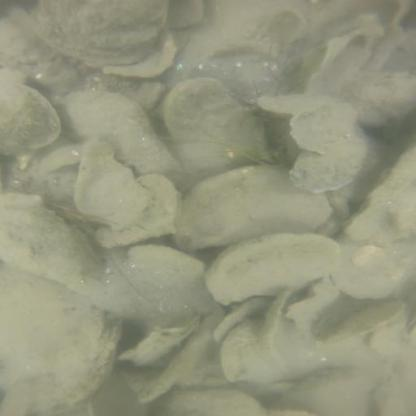Oyster-Closed: (175, 165, 329, 247), (160, 77, 280, 175), (64, 86, 181, 176), (204, 234, 343, 308), (29, 0, 168, 64), (1, 192, 90, 284)
Oyster-Open: (219, 320, 379, 384), (344, 146, 416, 243), (286, 130, 366, 195), (151, 383, 269, 416), (0, 84, 53, 156), (323, 299, 407, 344)
